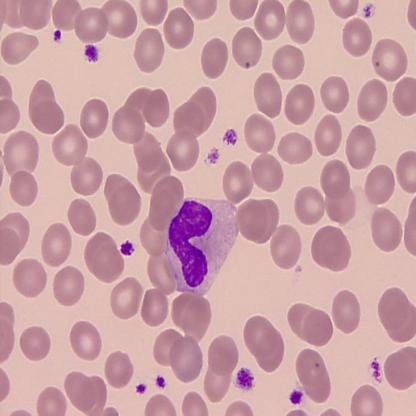Band Neutrophil: (161, 194, 240, 297)
